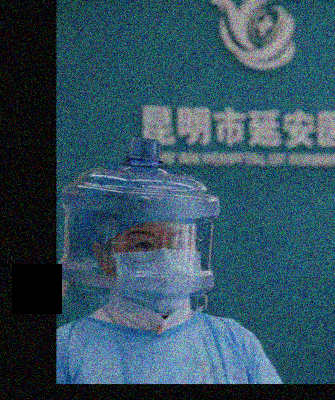with_mask: (112, 225, 201, 318)
